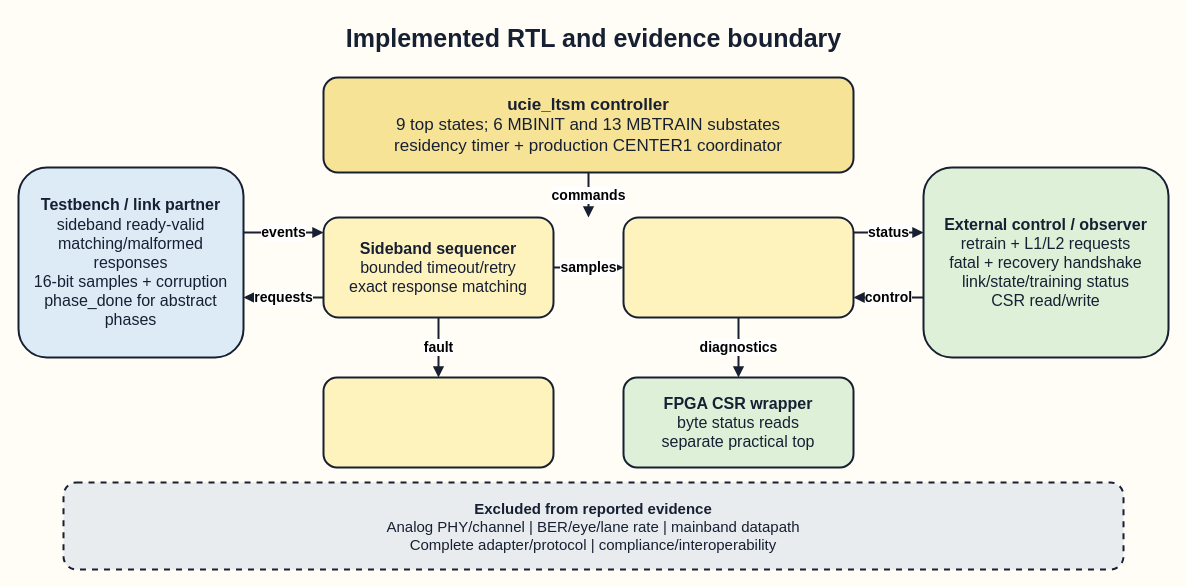
Image size: 1186x587. Some labels were removed from this diagram. Each missing label, with the centre of its shape:
Error manager priority + retained cause/count protected TRAINERROR clear: (x=438, y=422)
LFSR engine 16 independent 23-bit lanes accepted samples; strict threshold: (x=738, y=267)
